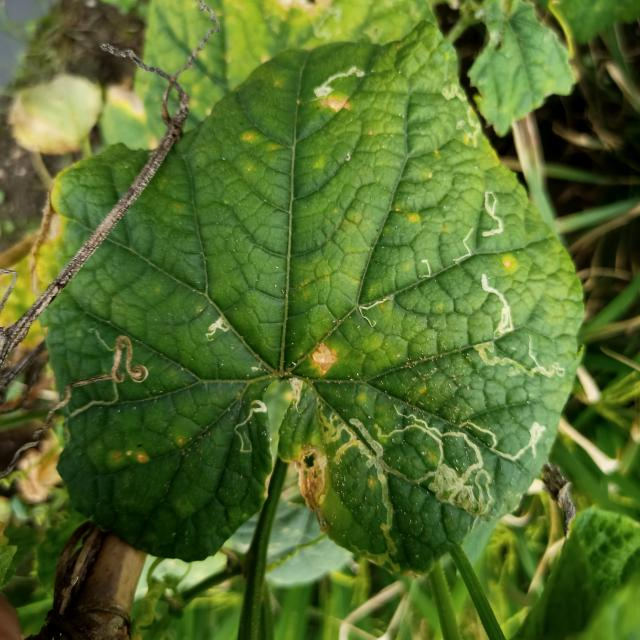disease_cucumber: (310, 334, 340, 377), (320, 88, 354, 115), (112, 444, 149, 468), (498, 254, 515, 270)
